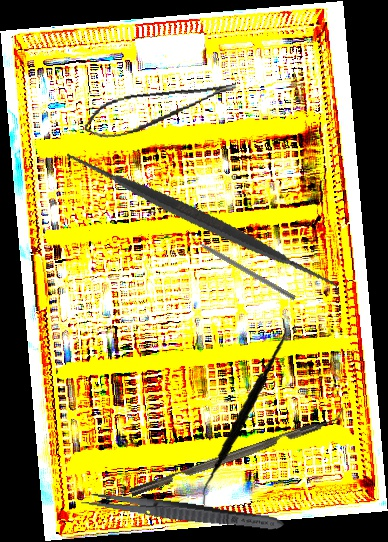Chopper: (125, 403, 349, 497), (184, 227, 300, 301)
Dressing Forceps: (80, 489, 286, 535)
Micro Scissor: (79, 77, 242, 144)
Spatula Surgical: (62, 81, 342, 360), (182, 317, 305, 506)
